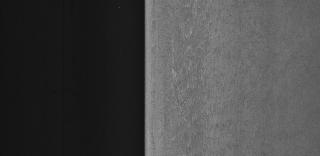silk spot: (166, 7, 254, 143)
